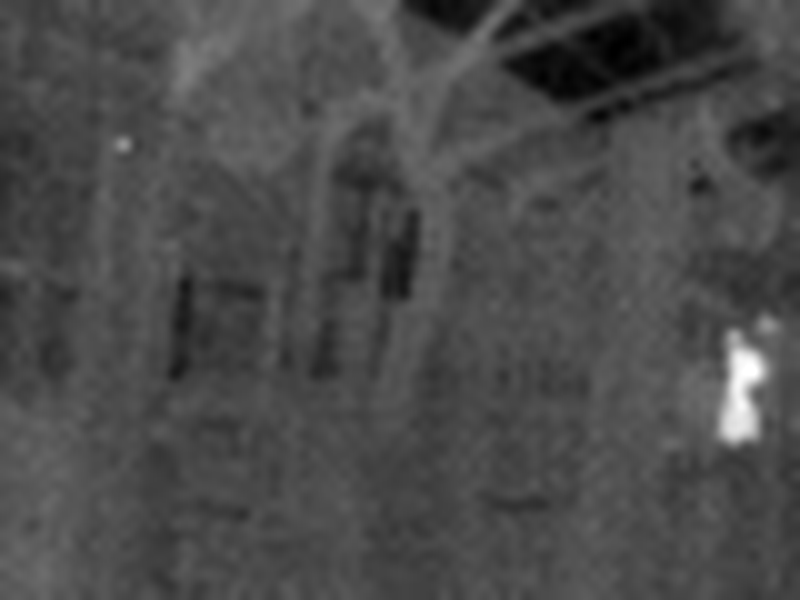elephant: (704, 303, 800, 459)
